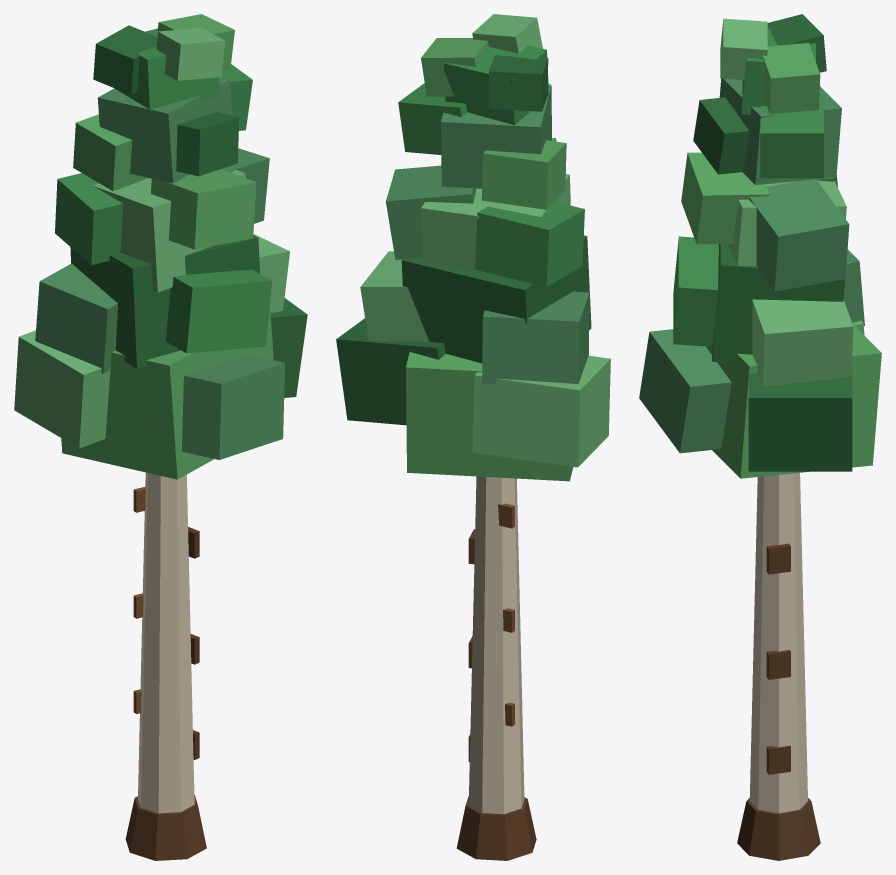
File: vn_nature_poplar_tree.glb
3 views of the same model, side by side, from view 1: azimuth 30°, elevation 25°; view 2: azimuth 150°, elevation 25°; view 3: azimuth 270°, elevation 25° (orthographic).
Parts seen in each view (by area): view 1: poplar_leaves, poplar_trunk; view 2: poplar_leaves, poplar_trunk; view 3: poplar_leaves, poplar_trunk.
Boxes of the visible parts, left/top/right/bottom form: poplar_leaves: left=14, top=14, right=307, bottom=479; poplar_trunk: left=125, top=472, right=206, bottom=860; poplar_leaves: left=336, top=14, right=610, bottom=481; poplar_trunk: left=456, top=476, right=536, bottom=860; poplar_leaves: left=639, top=14, right=881, bottom=478; poplar_trunk: left=737, top=473, right=820, bottom=860.
Size of the model in its own units: 1.2 by 3.88 by 1.04.
